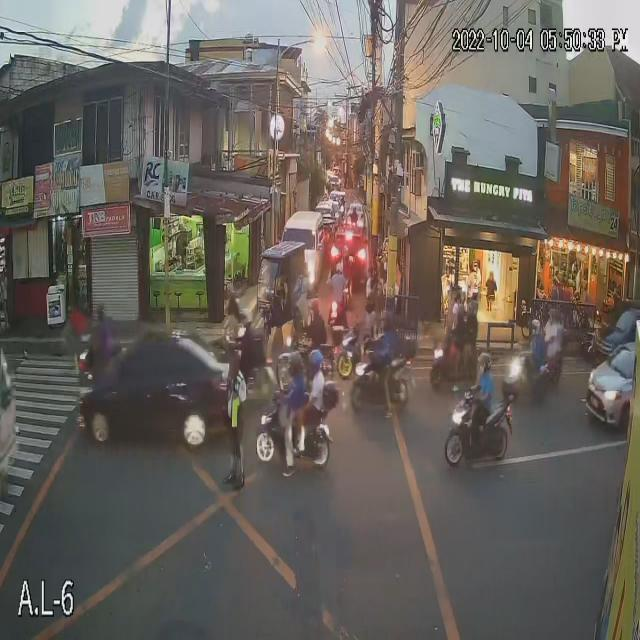helmet: (442, 298, 466, 331), (523, 317, 548, 346), (306, 345, 328, 375), (380, 309, 400, 341), (478, 348, 500, 376), (90, 297, 110, 320), (284, 349, 301, 375), (544, 305, 565, 326), (303, 297, 323, 319), (466, 295, 484, 319), (362, 285, 377, 311), (333, 261, 344, 280)
motorcycle: (254, 390, 340, 476), (435, 389, 520, 474), (336, 350, 420, 429), (422, 330, 487, 388), (504, 350, 570, 403), (275, 335, 334, 388), (63, 342, 120, 381), (330, 297, 353, 335)
rider: (470, 349, 497, 423), (280, 353, 308, 423), (302, 345, 330, 412), (90, 293, 120, 350), (374, 303, 396, 367), (442, 297, 468, 351), (517, 315, 546, 363), (459, 296, 485, 343), (305, 289, 326, 347), (546, 305, 565, 364), (359, 285, 376, 344), (333, 257, 351, 303)
